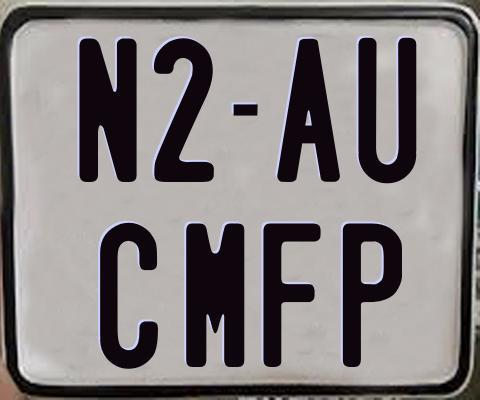2: (153, 38, 213, 186)
A: (277, 38, 344, 181)
C: (99, 220, 159, 367)
F: (262, 222, 324, 366)
M: (184, 220, 249, 368)
N: (76, 38, 140, 188)
P: (342, 220, 401, 364)
U: (355, 37, 413, 188)
